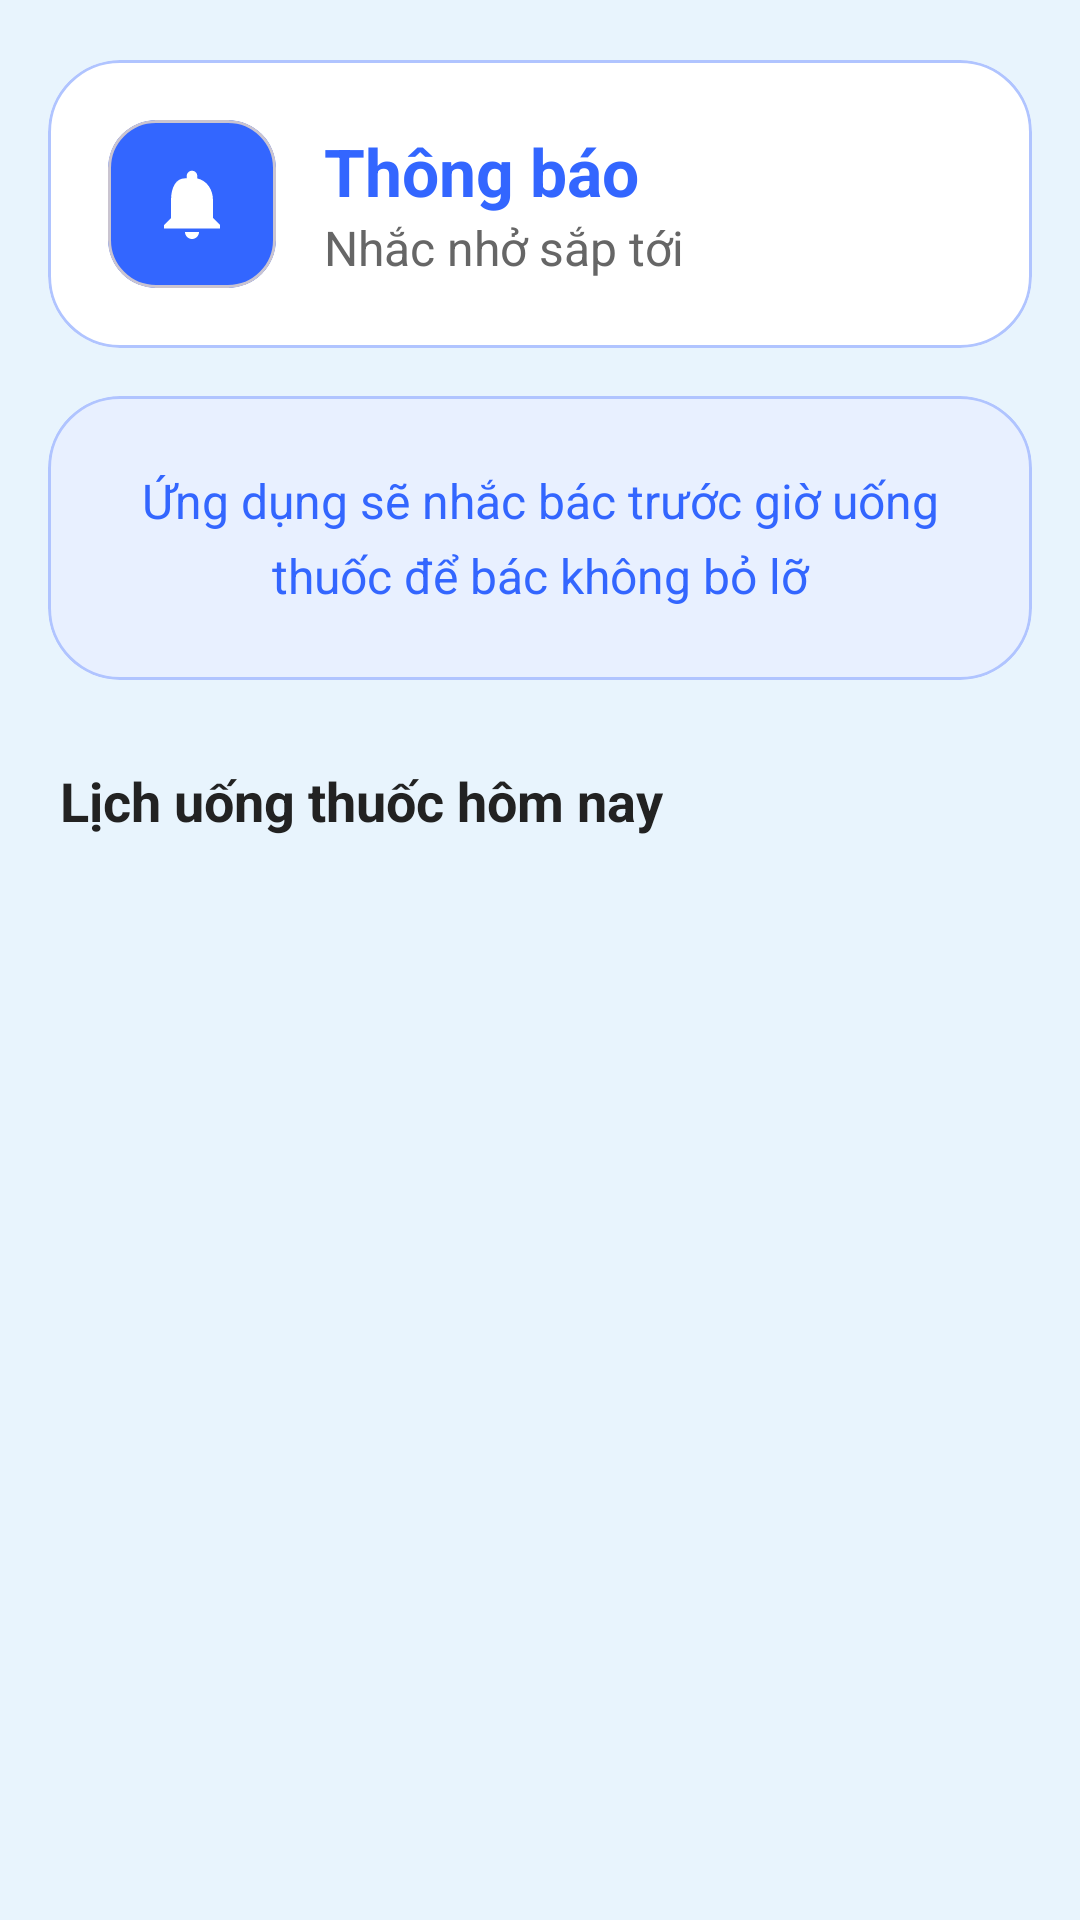

Point at icon controls on the screen. Image size 1080x1920, points as point (x, y).
bell: point (192, 204)
